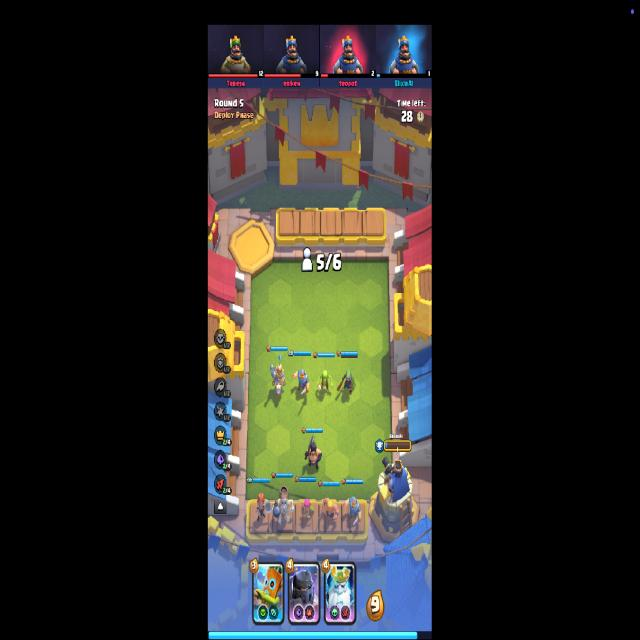archer: (300, 500, 314, 523)
bandit: (337, 367, 358, 400)
barbarian: (320, 496, 340, 523)
card_dart_goblin: (251, 562, 285, 628)
card_mega_knight: (288, 562, 321, 627)
card_royal_ghost: (323, 562, 357, 628)
executioner: (303, 433, 322, 476)
giant_skeleton: (274, 487, 295, 528)
goblin: (316, 367, 333, 397)
knight: (345, 495, 362, 527), (292, 367, 310, 395)
prince: (270, 354, 286, 400)
valkyrie: (255, 492, 271, 522)
